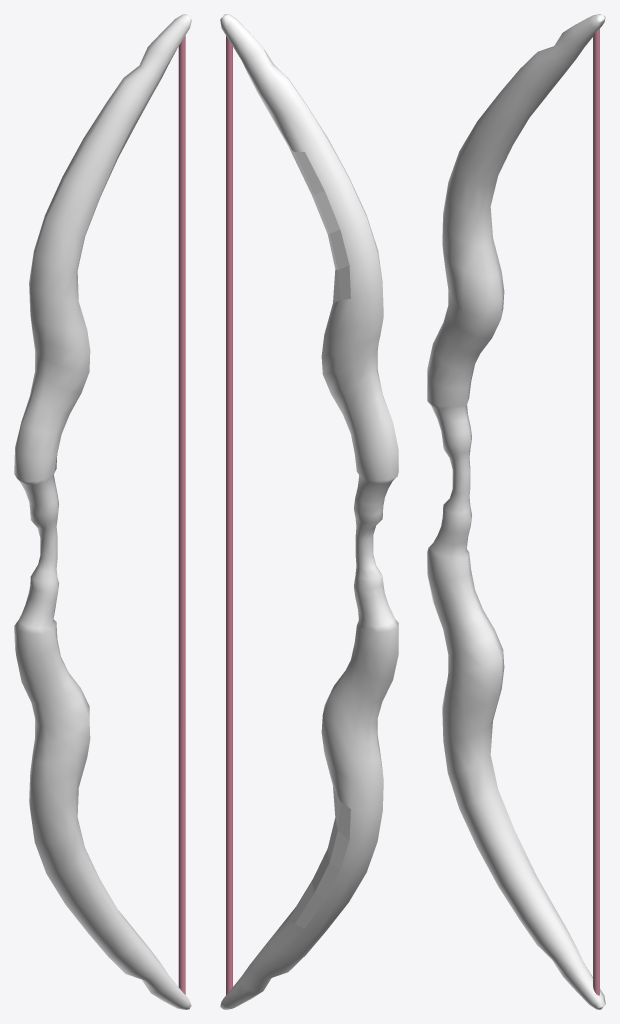
The model's file is Bow.fbx.
3 views of the same model, side by side, from view 1: azimuth 30°, elevation 25°; view 2: azimuth 150°, elevation 25°; view 3: azimuth 330°, elevation 25° (orthographic).
Visible parts, largest first — view 1: Bow_l.001; view 2: Bow_l.001; view 3: Bow_l.001.
Part boxes in pixels (box(x1,y1,x2,y2)): Bow_l.001: box(14, 14, 191, 1009); Bow_l.001: box(220, 14, 398, 1009); Bow_l.001: box(427, 14, 605, 1009).
Size of the model in its own units: 0.3982 by 2.16 by 0.1077.
